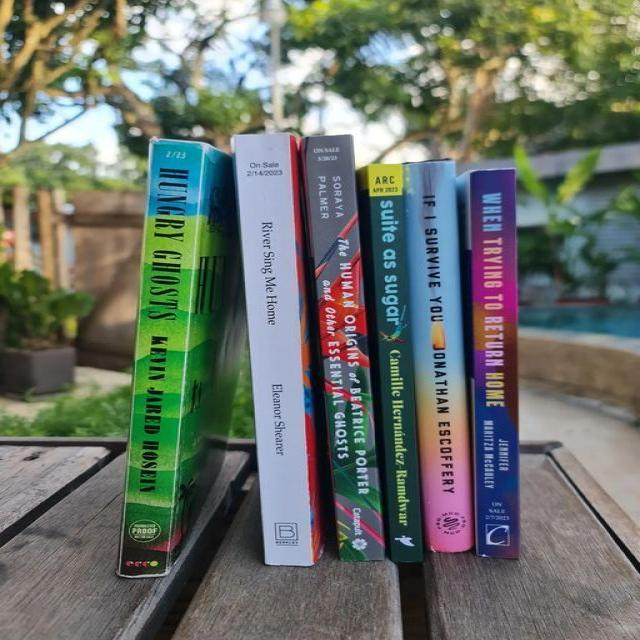book: (123, 138, 208, 576), (299, 135, 386, 561), (235, 134, 315, 565), (405, 160, 475, 551), (365, 164, 424, 562), (473, 171, 516, 558)
